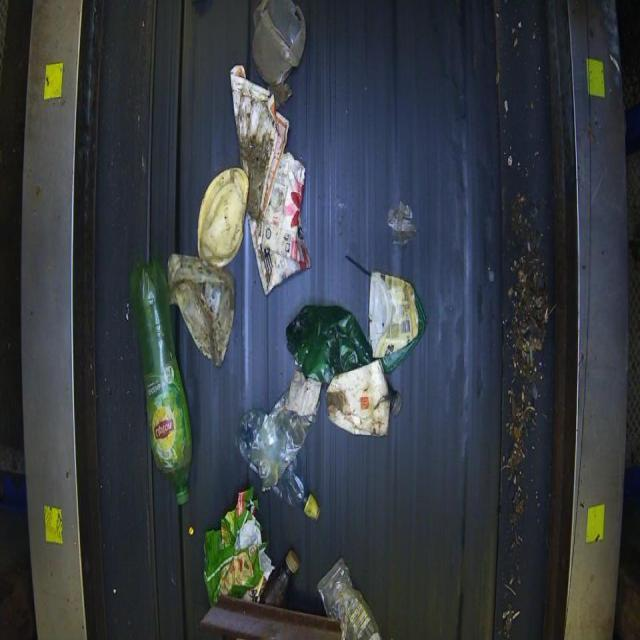organic-waste: (128, 259, 193, 505)
